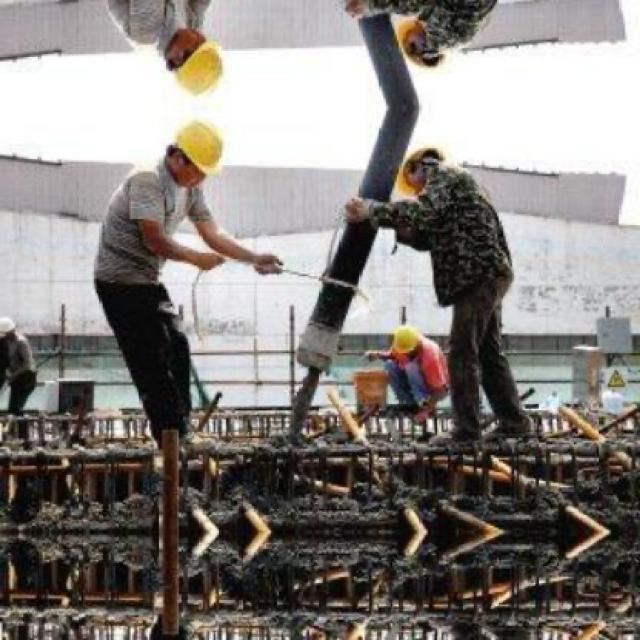con casco: (144, 122, 241, 196), (401, 133, 478, 210), (387, 317, 451, 374)
